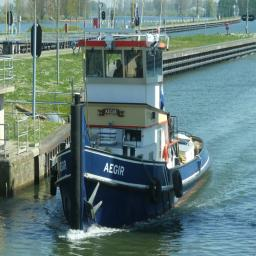tugboat: (50, 26, 216, 242)
